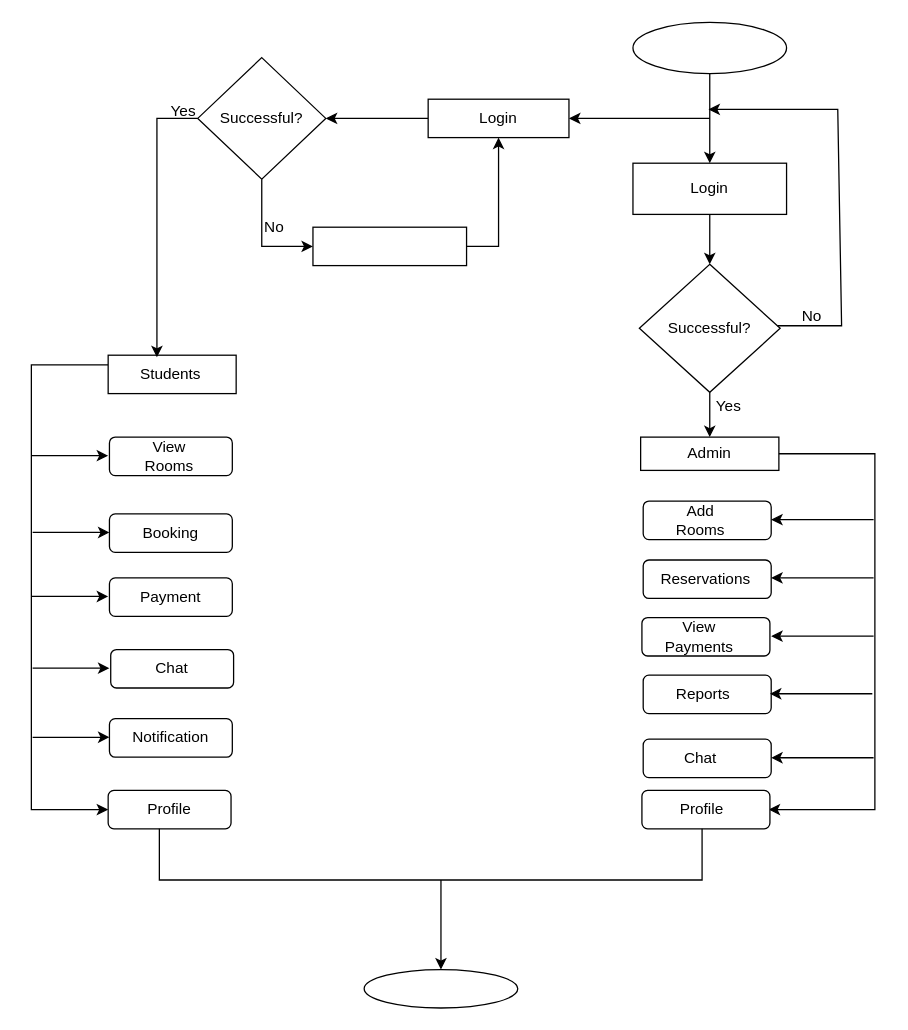
This 908x1030 diagram has some shape labels left out. The shapes that lost their labels are listed below. From the top down, each one's centre as x and y in pixels, then its label:
At (x=709, y=47): "Start".
At (x=389, y=246): "Register".
At (x=440, y=988): "Stop".
